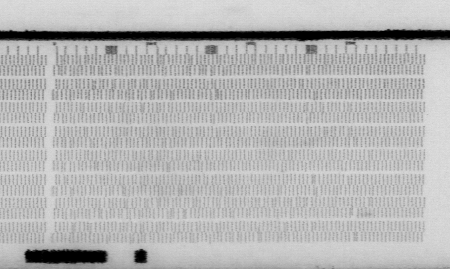Oblique printing: (51, 136, 215, 245), (50, 54, 227, 104), (52, 100, 171, 127), (220, 221, 320, 243), (218, 197, 309, 220), (285, 76, 327, 103), (301, 99, 329, 123), (302, 52, 324, 78), (307, 173, 324, 199), (245, 87, 257, 101), (250, 52, 262, 66), (346, 232, 361, 243), (209, 111, 221, 124), (348, 136, 360, 149), (361, 196, 375, 207), (349, 205, 360, 218)
